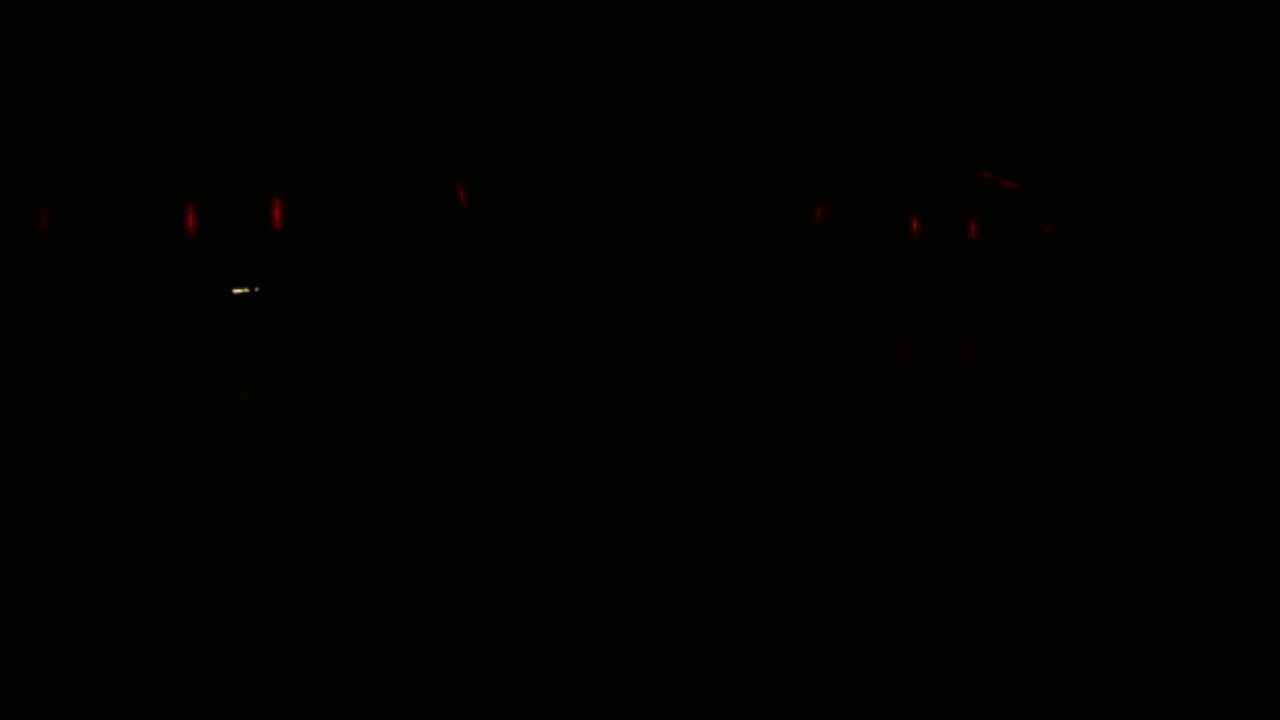pair1: (177, 198, 287, 239), (906, 213, 979, 241)
